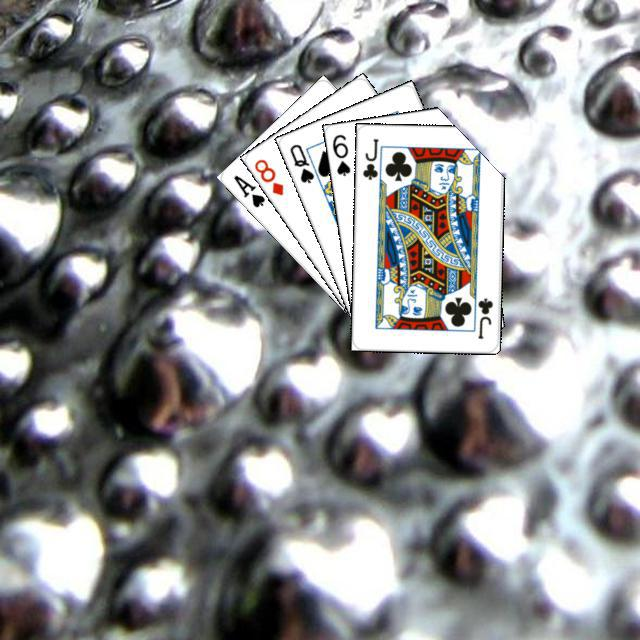6s: (327, 129, 352, 177)
8d: (249, 154, 285, 197)
As: (228, 170, 267, 209)
Jc: (358, 134, 380, 181), (473, 293, 494, 341)
Qs: (285, 139, 316, 185)
